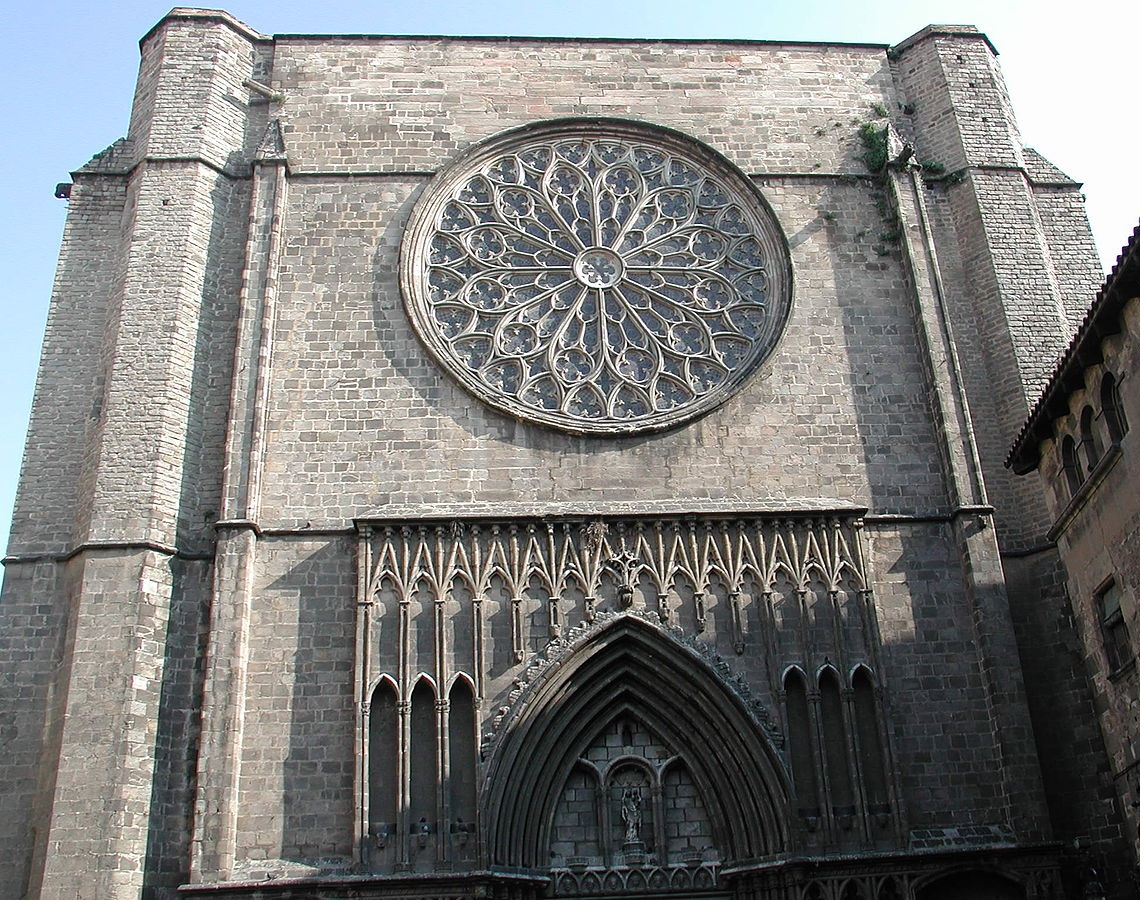arco-apuntado: (480, 610, 790, 872)
